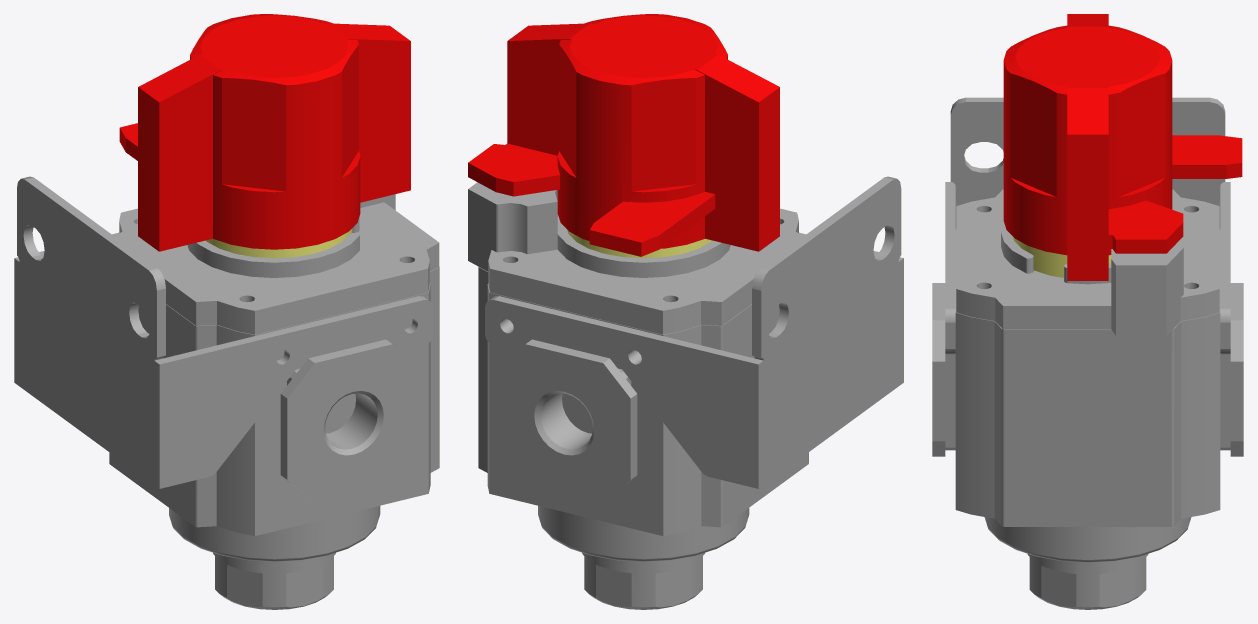
File: valvula de alivio.fbx
3 views of the same model, side by side, from view 1: azimuth 30°, elevation 25°; view 2: azimuth 150°, elevation 25°; view 3: azimuth 270°, elevation 25° (orthographic).
Parts seen in each view (by area): view 1: GZ300-08-Body_1, GZ300-08-Switch_2; view 2: GZ300-08-Body_1, GZ300-08-Switch_2; view 3: GZ300-08-Body_1, GZ300-08-Switch_2.
Part boxes in pixels (left/top/right/bottom): GZ300-08-Body_1: left=14, top=176, right=439, bottom=609; GZ300-08-Switch_2: left=119, top=14, right=410, bottom=258; GZ300-08-Body_1: left=468, top=176, right=903, bottom=609; GZ300-08-Switch_2: left=468, top=14, right=779, bottom=258; GZ300-08-Body_1: left=932, top=97, right=1243, bottom=609; GZ300-08-Switch_2: left=1003, top=14, right=1242, bottom=280.
Bounding box in the file's own units: 70.6 × 112 × 60.
